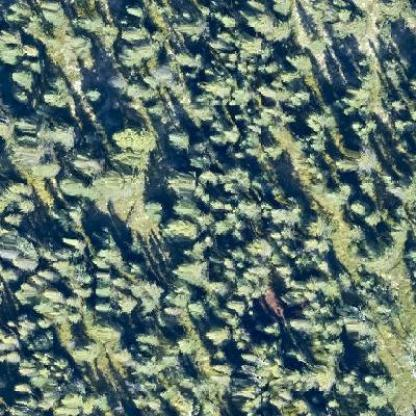tree-top: (108, 121, 159, 153), (63, 330, 104, 366), (170, 255, 216, 286), (203, 318, 234, 352), (6, 64, 36, 92), (285, 46, 313, 73), (346, 192, 374, 218), (0, 208, 28, 228)
